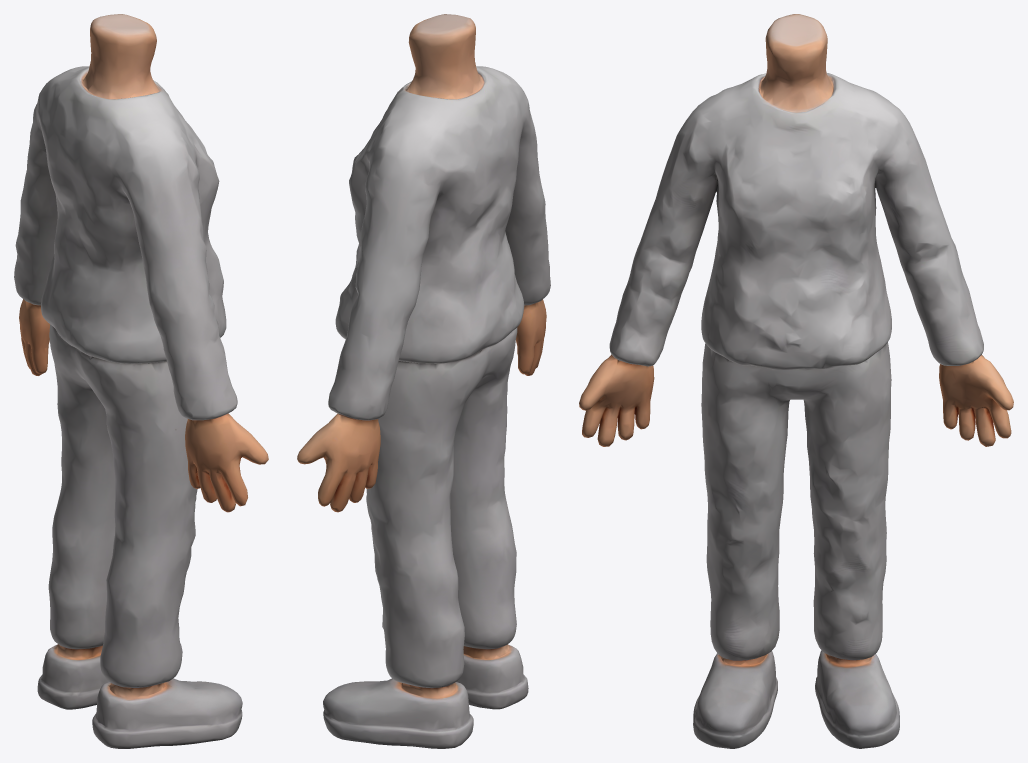
File: body_child.glb
3 views of the same model, side by side, from view 1: azimuth 30°, elevation 25°; view 2: azimuth 150°, elevation 25°; view 3: azimuth 270°, elevation 25° (orthographic).
Parts seen in each view (by area): view 1: tripo_node_64a48129-d5a0-4e3a-a7c5-9e16ada0d7c1; view 2: tripo_node_64a48129-d5a0-4e3a-a7c5-9e16ada0d7c1; view 3: tripo_node_64a48129-d5a0-4e3a-a7c5-9e16ada0d7c1.
Part boxes in pixels (x1,y1,x2,y2): tripo_node_64a48129-d5a0-4e3a-a7c5-9e16ada0d7c1: (14, 14, 268, 748); tripo_node_64a48129-d5a0-4e3a-a7c5-9e16ada0d7c1: (297, 14, 550, 748); tripo_node_64a48129-d5a0-4e3a-a7c5-9e16ada0d7c1: (579, 14, 1013, 748).
Bounding box in the file's own units: 0.2193 × 1 × 0.5733.
Materials: 1 (1 with a texture image).
